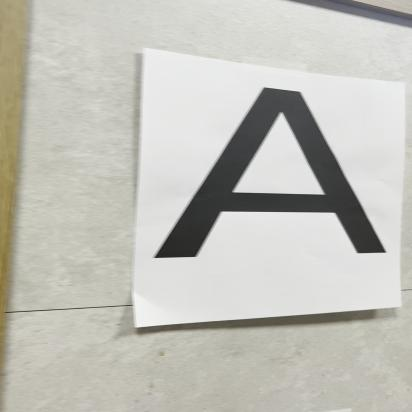seat: (140, 74, 411, 300)
